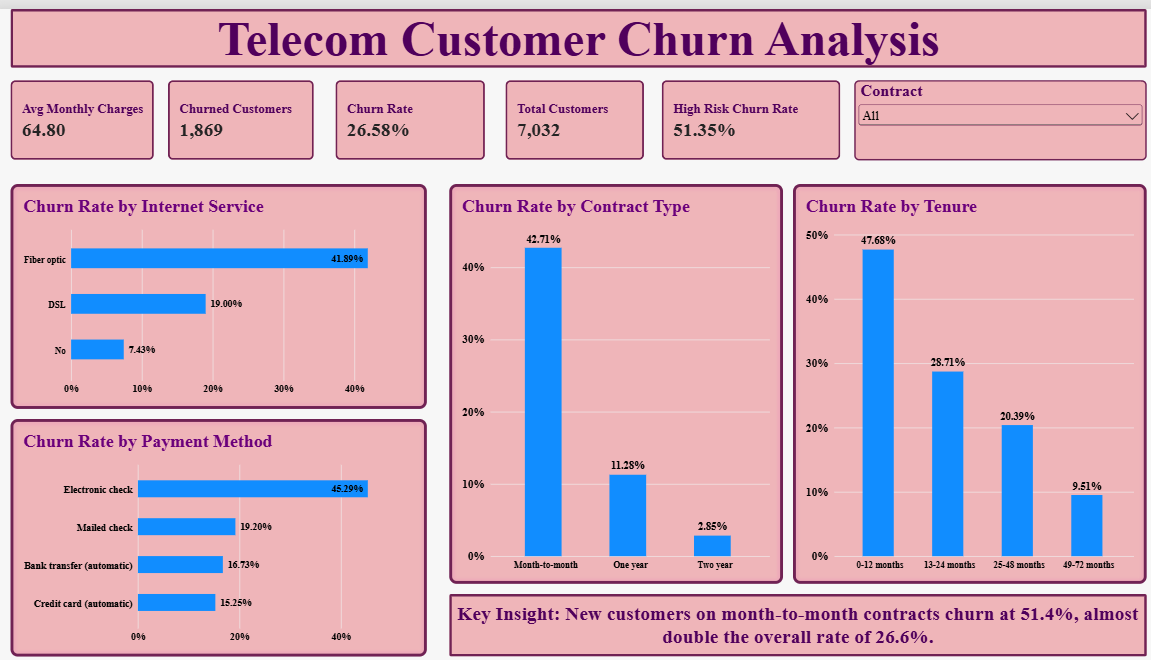

This screenshot's page, from the dashboard's own definition file:
{"tool":"powerbi","page":{"name":"Page 1","canvas":[1920,1080],"ordinal":0},"visuals":[{"type":"cardVisual","fields":{"Data":["churn_clean.Avg Monthly Charges"]},"box":[28.8,117.3,236.7,131.7],"z":0},{"type":"cardVisual","fields":{"Data":["churn_clean.Churn Rate"]},"box":[564,117.3,247,131.7],"z":1000},{"type":"cardVisual","fields":{"Data":["churn_clean.Churned Customers Display"]},"box":[288.2,117.3,240.8,131.7],"z":2000},{"type":"cardVisual","fields":{"Data":["churn_clean.Total Customers Display"]},"box":[843.9,117.3,228.5,131.7],"z":3000},{"type":"clusteredColumnChart","fields":{"Category":["churn_clean.Contract"],"Y":["churn_clean.Churn Rate"]},"box":[751.3,288.2,549.6,658.7],"z":4000},{"type":"clusteredColumnChart","fields":{"Category":["churn_clean.tenure_group"],"Y":["churn_clean.Churn Rate"]},"box":[1317.3,288.2,582.5,658.7],"z":5000},{"type":"clusteredBarChart","fields":{"Category":["churn_clean.InternetService"],"Y":["churn_clean.Churn Rate"]},"box":[28.8,288.2,685.4,370.5],"z":6000},{"type":"clusteredBarChart","fields":{"Category":["churn_clean.PaymentMethod"],"Y":["churn_clean.Churn Rate"]},"box":[28.8,675.1,685.4,391.1],"z":7000},{"type":"cardVisual","fields":{"Data":["churn_clean.High Risk Churn Rate"]},"box":[1101.2,117.3,294.3,131.7],"z":8000},{"type":"slicer","fields":{"Values":["churn_clean.Contract"]},"box":[1418.2,117.3,481.6,131.7],"z":9000},{"type":"shape","box":[28.8,0,1871,96.7],"z":10000},{"type":"shape","box":[751.3,963.3,1148.5,102.9],"z":11000}]}

Visuals, with their boxes in screenshot pixels (x1, y1, x2, y2), scaled from the page's 1920x1080 canvas onto the 1151x660 screenshot:
cardVisual - churn_clean.Avg Monthly Charges: 17 72 159 152
cardVisual - churn_clean.Churn Rate: 338 72 486 152
cardVisual - churn_clean.Churned Customers Display: 173 72 317 152
cardVisual - churn_clean.Total Customers Display: 506 72 643 152
clusteredColumnChart - churn_clean.Contract x churn_clean.Churn Rate: 450 176 780 579
clusteredColumnChart - churn_clean.tenure_group x churn_clean.Churn Rate: 790 176 1139 579
clusteredBarChart - churn_clean.InternetService x churn_clean.Churn Rate: 17 176 428 403
clusteredBarChart - churn_clean.PaymentMethod x churn_clean.Churn Rate: 17 413 428 652
cardVisual - churn_clean.High Risk Churn Rate: 660 72 837 152
slicer - churn_clean.Contract: 850 72 1139 152
shape: 17 0 1139 59
shape: 450 589 1139 652
